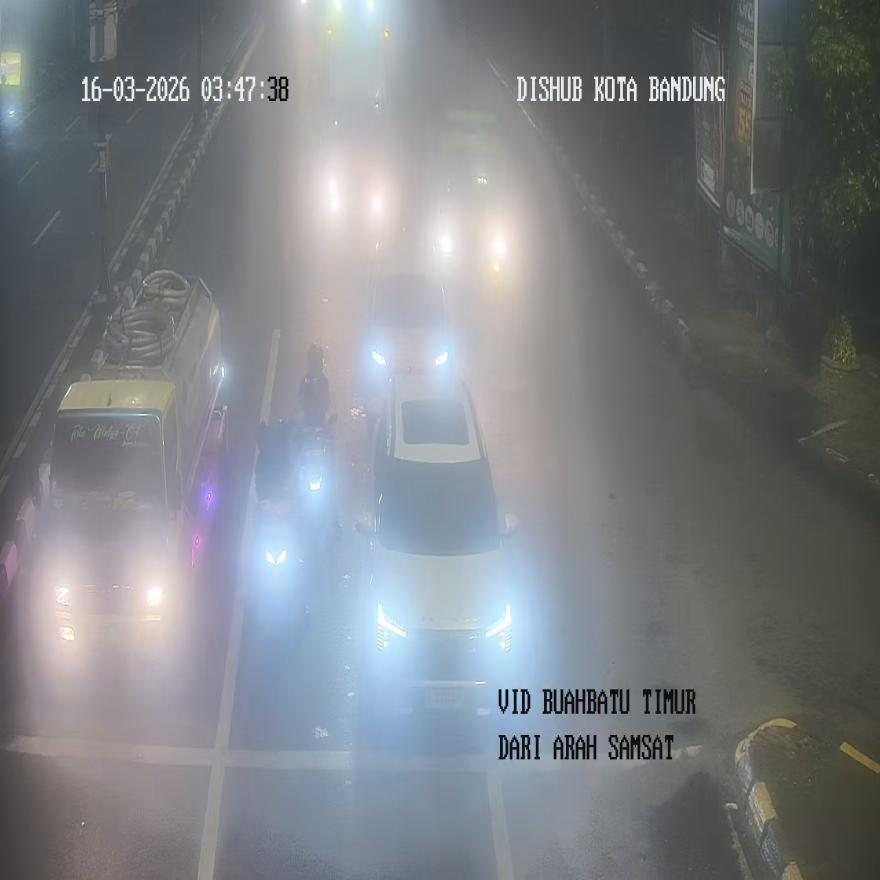Mobil: (363, 368, 516, 721), (428, 108, 514, 287), (362, 236, 454, 402)
Motor: (257, 505, 292, 614), (295, 433, 332, 528)
Truk ringan: (39, 272, 228, 673), (321, 43, 380, 225)
